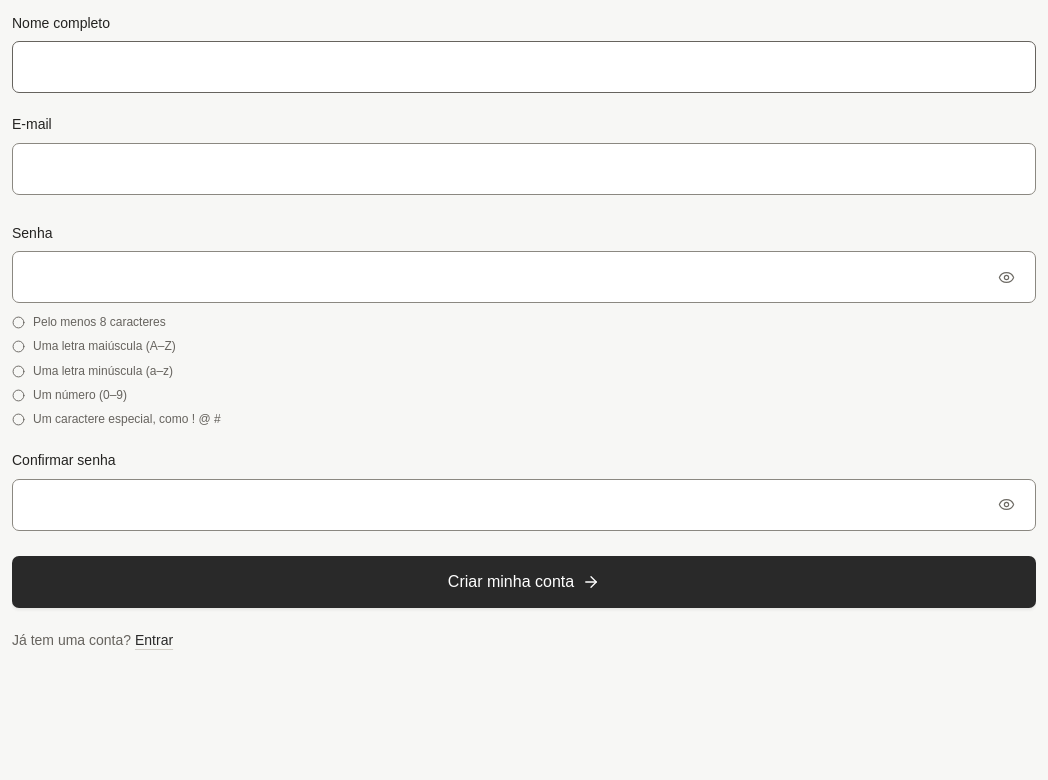
Test case: Cadastro público › aguarda confirmação de e-mail sem perder o destino do convite
Type "Pessoa Nova" into the field labelled "Nome completo".
click(524, 67); type("Pessoa Nova")  # box [12,41,1036,93]
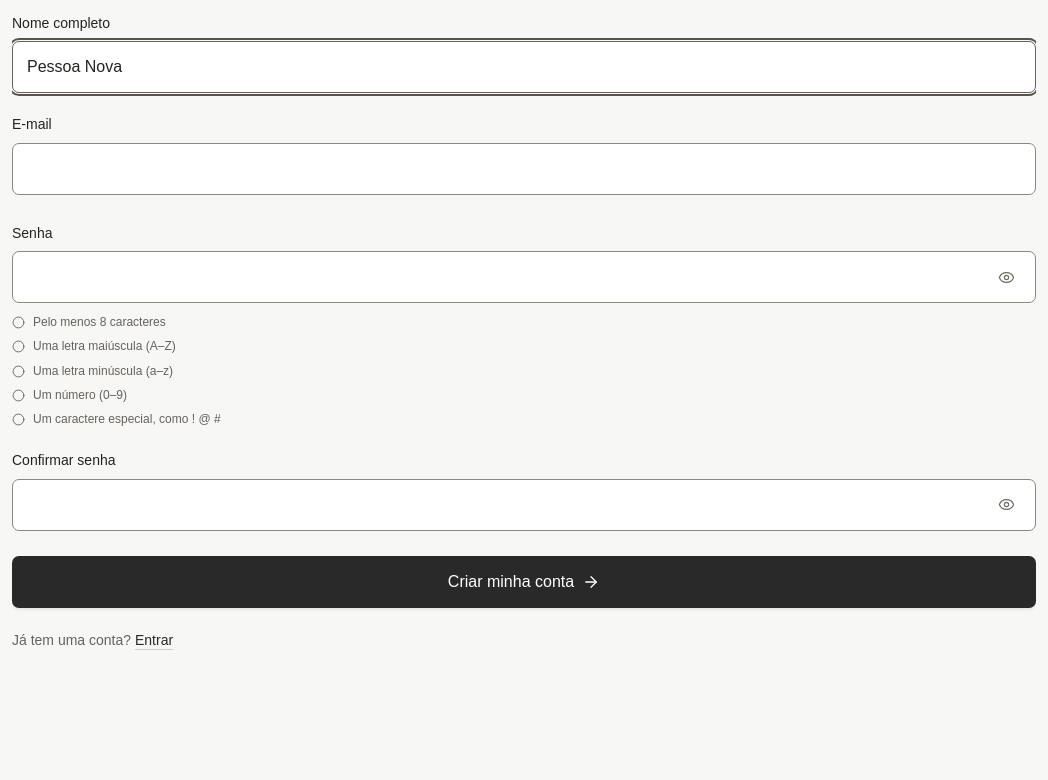
Type "nova@example.test" into the field labelled "E-mail".
click(524, 169); type("nova@example.test")  # box [12,143,1036,195]
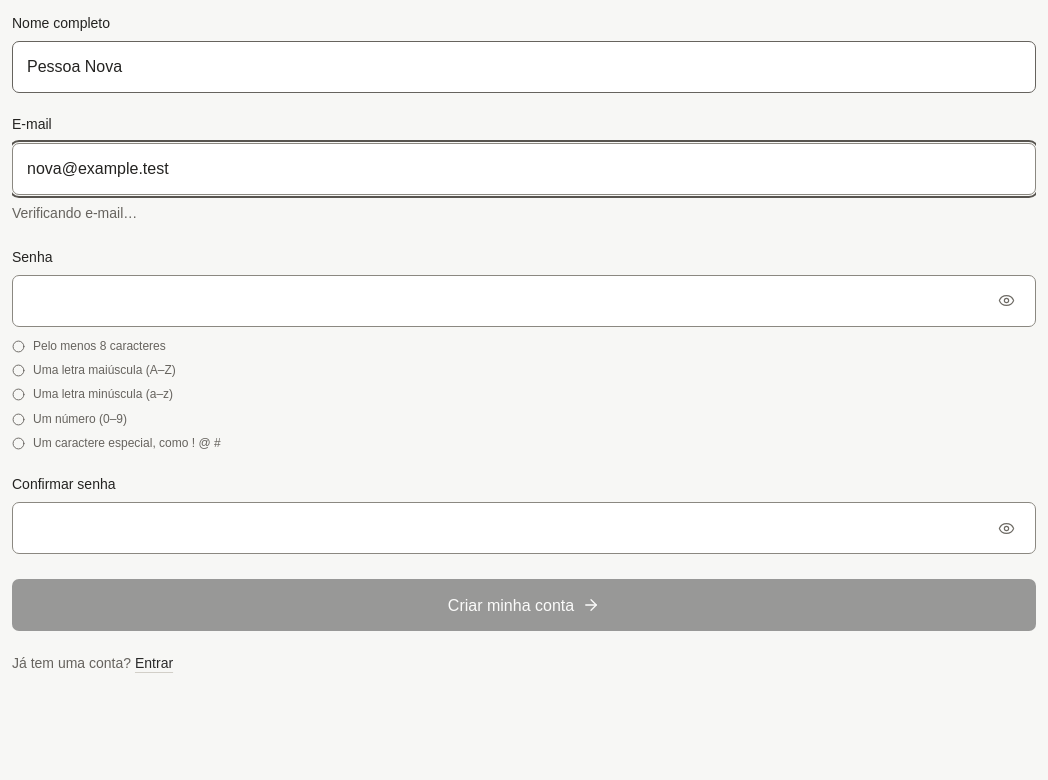
Type "Senha-forte-2026" into the password field labelled "Senha".
click(524, 301); type("Senha-forte-2026")  # box [12,275,1036,327]
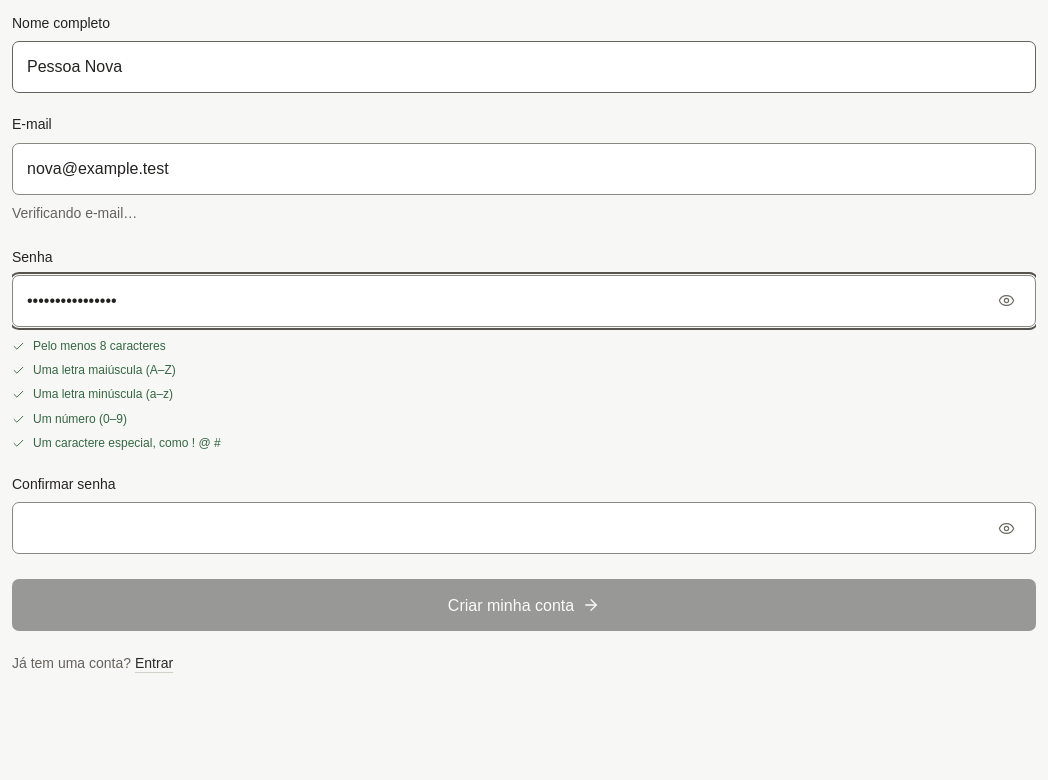
Type "Senha-forte-2026" into the password field labelled "Confirmar senha".
click(524, 528); type("Senha-forte-2026")  # box [12,502,1036,554]
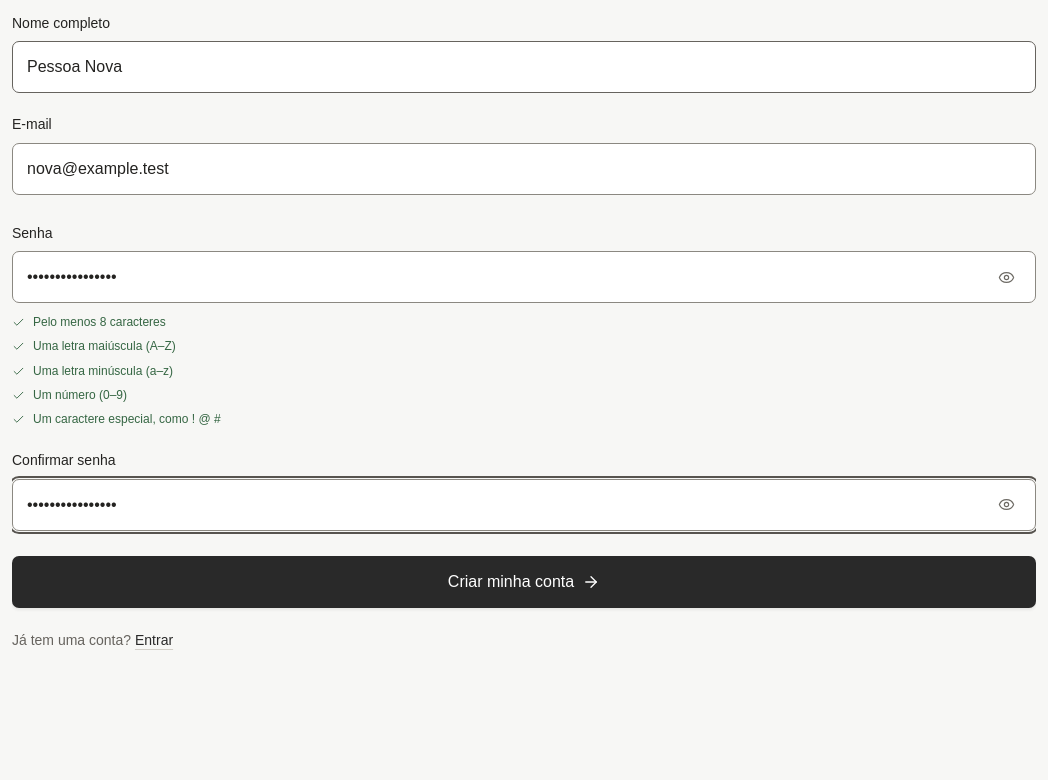
Expected: the button "Criar minha conta" is enabled
Click the button "Criar minha conta".
click(524, 582)  # box [12,556,1036,608]
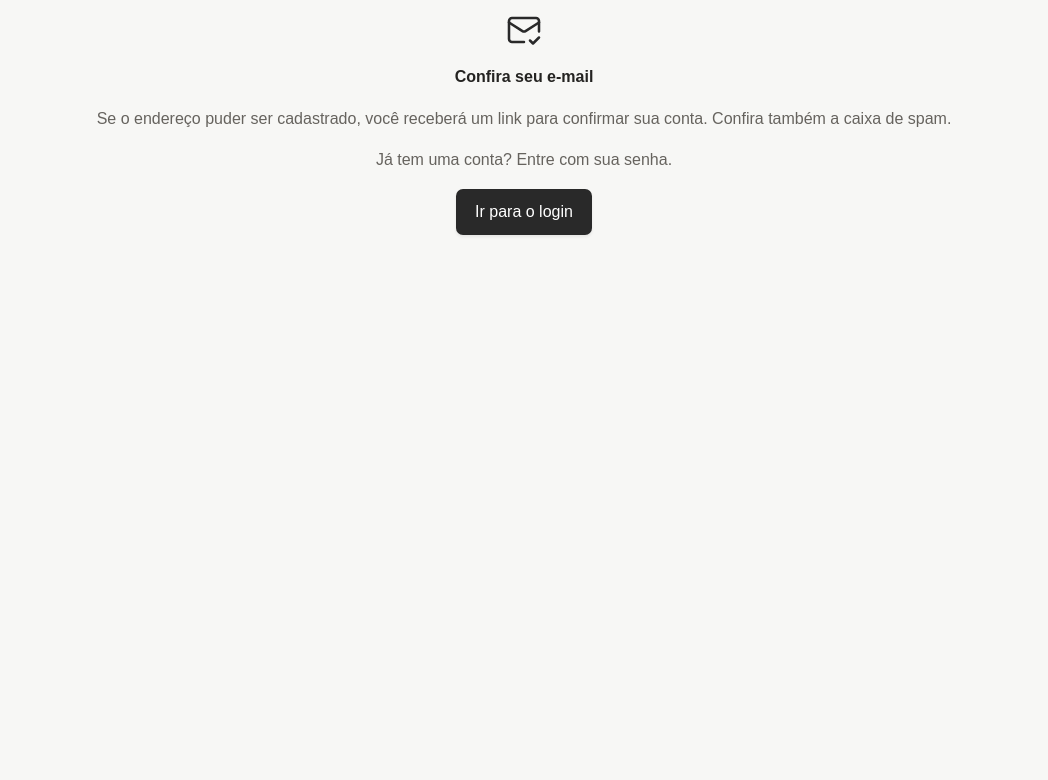
Expected: the message shows "Confira seu e-mail", [455,68,593,85]
